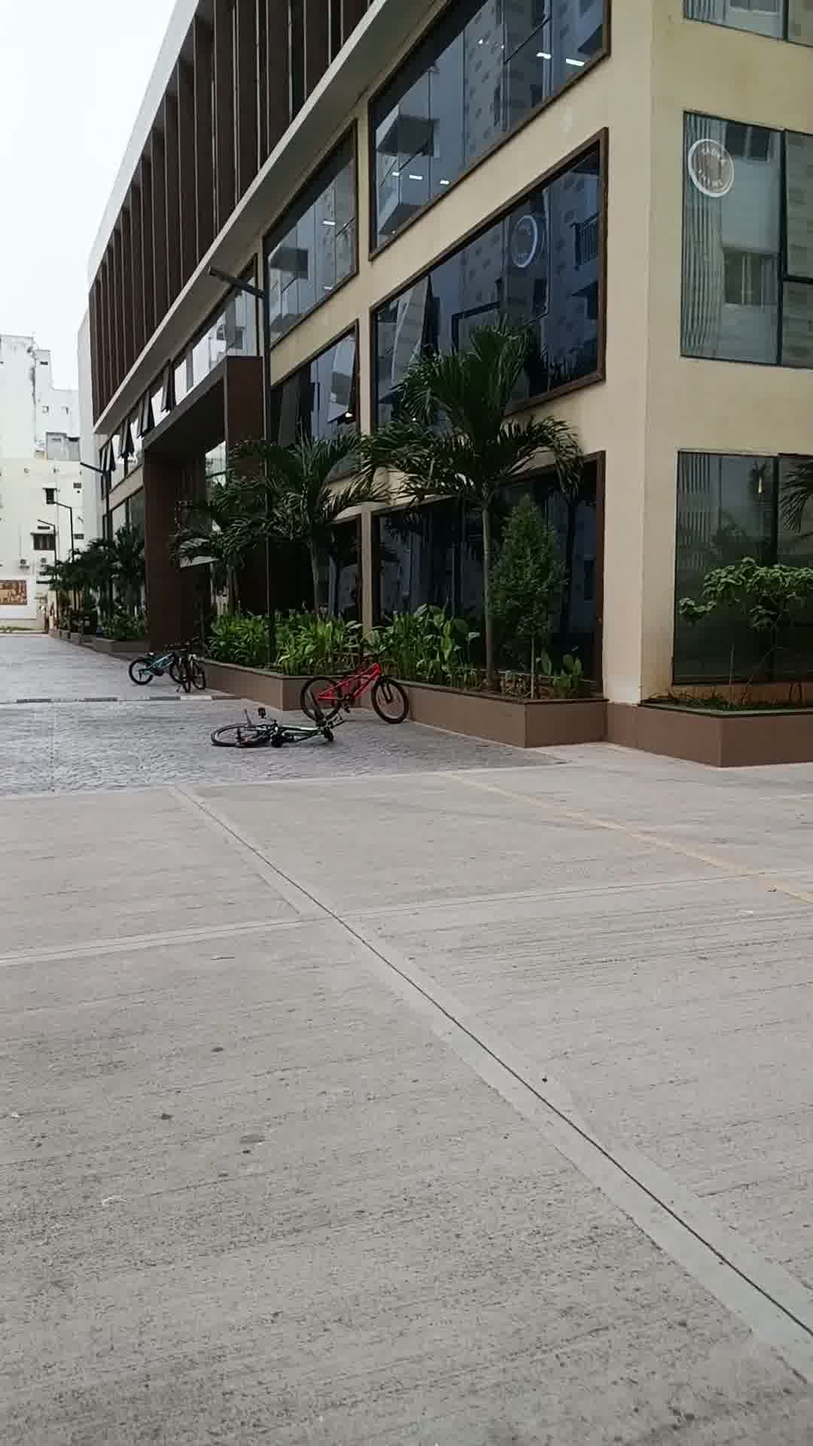bicycle: (298, 642, 415, 723), (204, 705, 352, 749), (129, 637, 214, 690)
tree: (380, 347, 595, 672), (224, 420, 381, 657), (172, 484, 256, 652), (96, 518, 153, 643)
